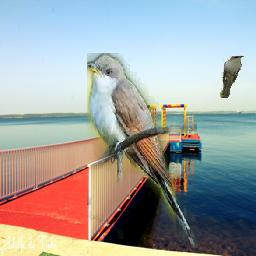Cuckoo: (87, 54, 197, 251), (220, 56, 244, 99)
